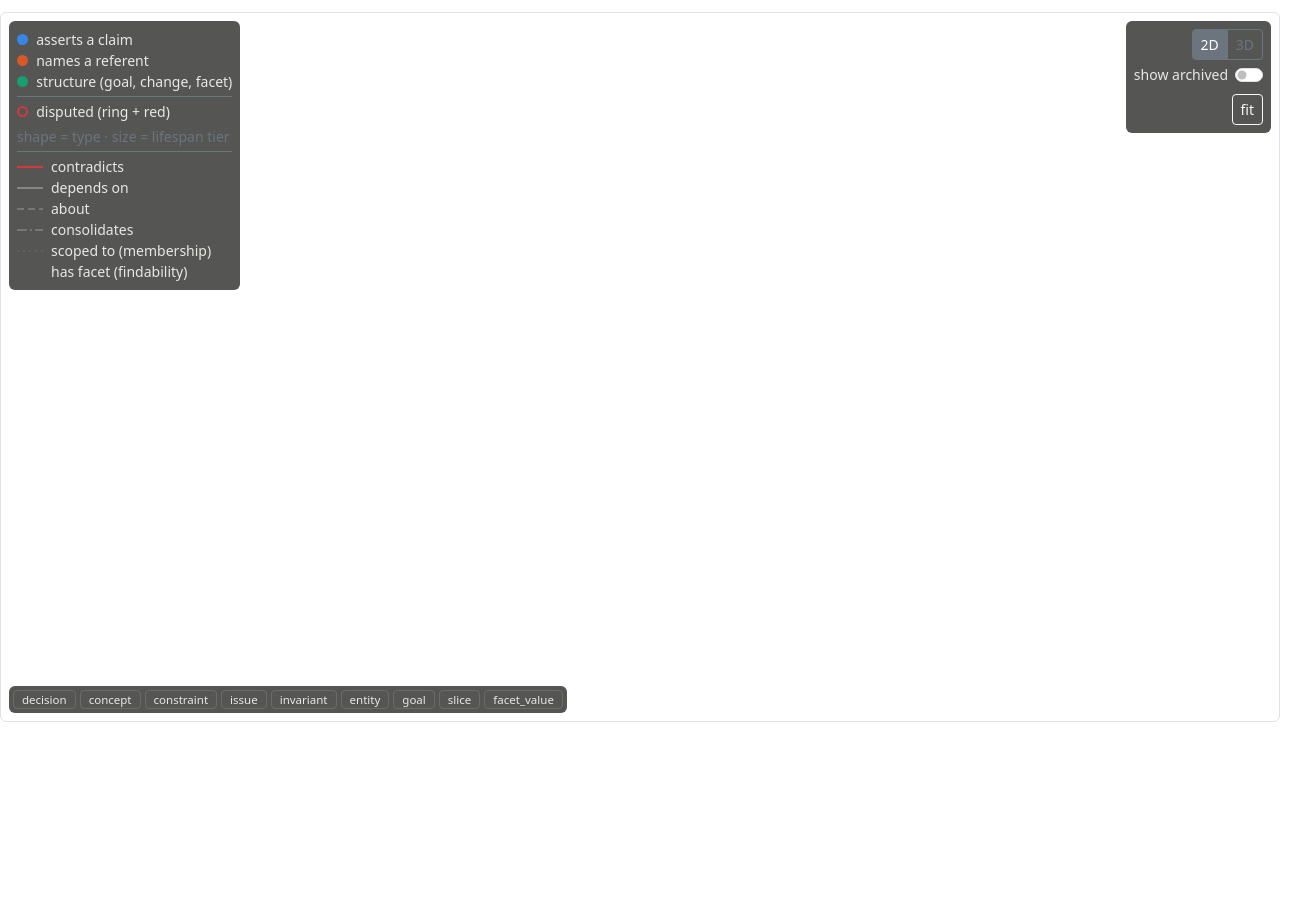
the edit panel › opens on a node click and shows that node
This screenshot has width=1292, height=912.
Click the 1st element with class "end-0" at (640, 367), box [1,13,1279,721]
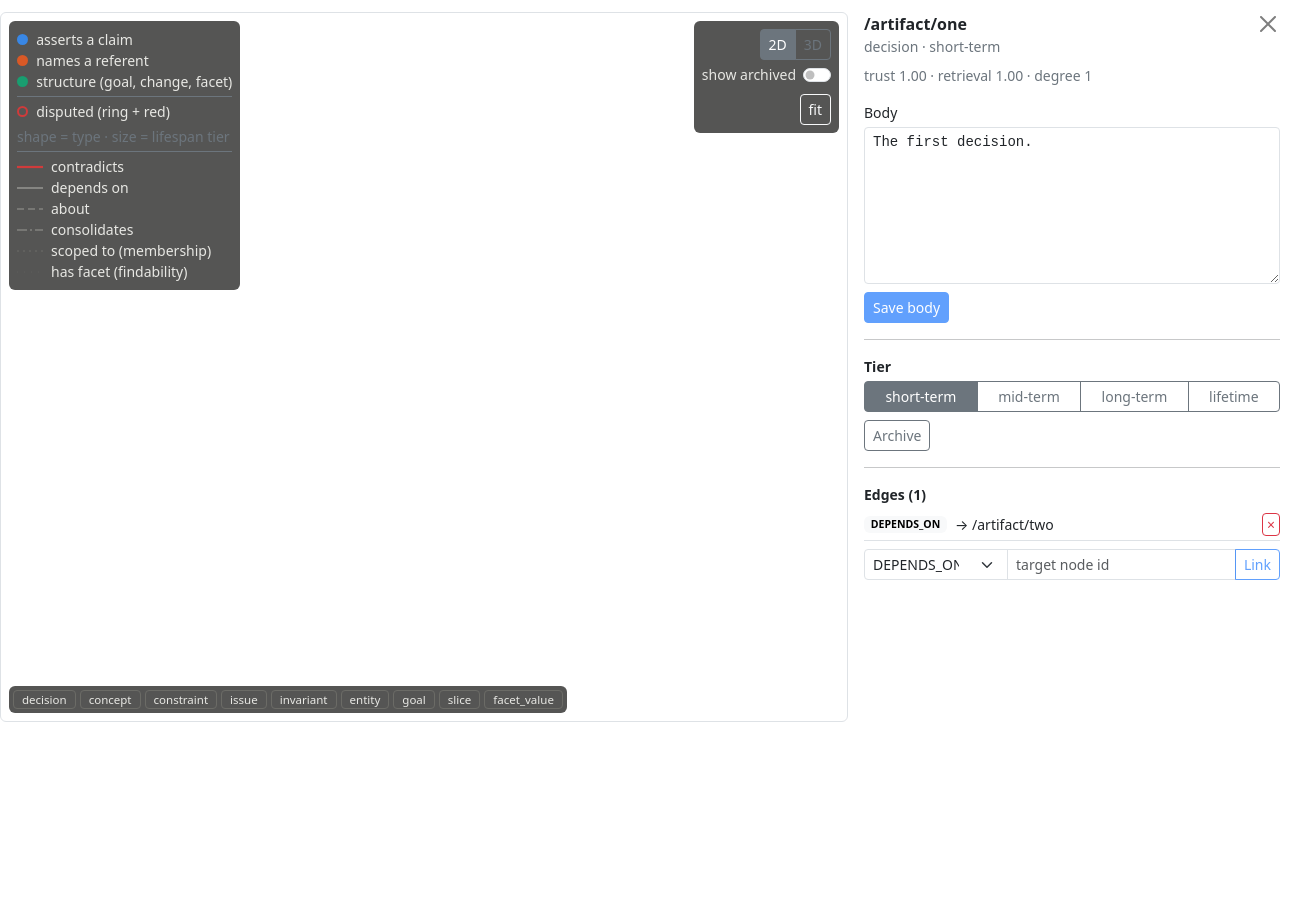
Now the text "/artifact/one" is shown, box [864,13,967,35]
Now the text box labelled "Body" holds "The first decision.", box [864,127,1280,284]
